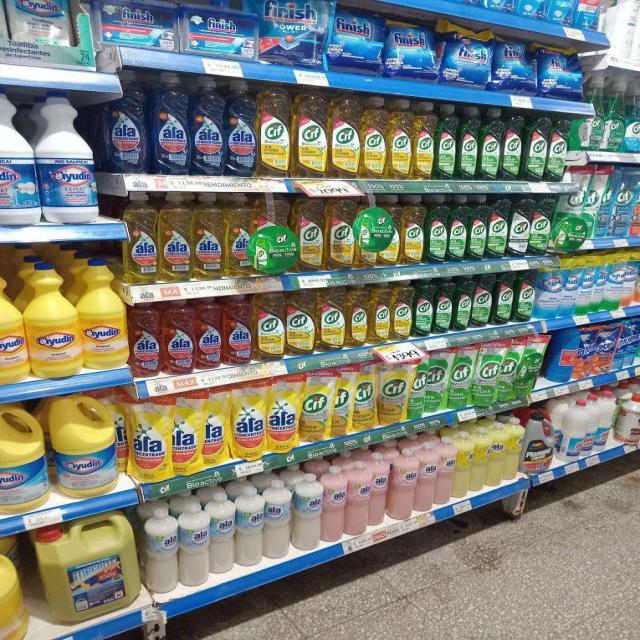ala_conc_amarillo: (123, 192, 158, 284), (160, 192, 192, 282), (193, 192, 224, 280), (226, 192, 253, 278)
ala_conc_azul: (104, 69, 148, 174), (151, 72, 189, 176), (190, 76, 225, 177), (225, 80, 258, 177)
ala_conc_rojo: (129, 298, 161, 378), (162, 298, 194, 374), (223, 293, 253, 366), (195, 296, 222, 370)
ala_crem_amarillo: (489, 422, 505, 487)
ala_crem_blanco: (143, 506, 178, 594), (179, 499, 208, 588), (264, 478, 292, 562), (236, 484, 263, 568), (293, 472, 321, 552), (208, 491, 234, 576)
ala_crem_rosado: (389, 447, 416, 521), (322, 464, 346, 544), (346, 459, 370, 536), (417, 439, 436, 513), (370, 452, 388, 528), (437, 436, 454, 506)
ala_sachet_amarillo: (128, 394, 171, 483), (232, 380, 265, 460), (173, 389, 203, 476), (267, 374, 299, 454), (204, 385, 230, 467)
cif_conc_bot_amarilla: (292, 89, 328, 178), (258, 86, 290, 178), (329, 93, 360, 179), (325, 196, 354, 270), (254, 290, 284, 361), (297, 195, 324, 272), (361, 96, 386, 179), (286, 287, 316, 356), (317, 284, 345, 352), (388, 99, 411, 180), (412, 101, 434, 180), (401, 194, 425, 265), (378, 194, 400, 267), (368, 280, 391, 344), (346, 282, 368, 348), (391, 279, 412, 340)
cif_conc_botella_verde: (435, 102, 457, 180), (479, 108, 501, 182), (458, 105, 479, 181), (426, 193, 448, 264), (524, 115, 547, 182), (502, 112, 524, 181), (530, 193, 552, 257), (547, 116, 567, 182), (488, 194, 508, 259), (509, 193, 529, 258), (448, 194, 467, 262), (468, 194, 487, 261), (414, 277, 434, 337), (434, 276, 453, 333), (472, 273, 492, 327), (493, 271, 513, 324), (453, 274, 471, 331), (514, 270, 533, 322)
cif_conc_sachet_amarillo: (301, 370, 332, 443), (378, 360, 408, 425), (353, 363, 377, 432), (333, 367, 352, 437)
cif_conc_sachet_verde: (518, 335, 544, 398), (473, 340, 497, 406), (448, 345, 472, 409), (426, 349, 448, 413), (498, 337, 517, 402), (408, 355, 425, 419)
